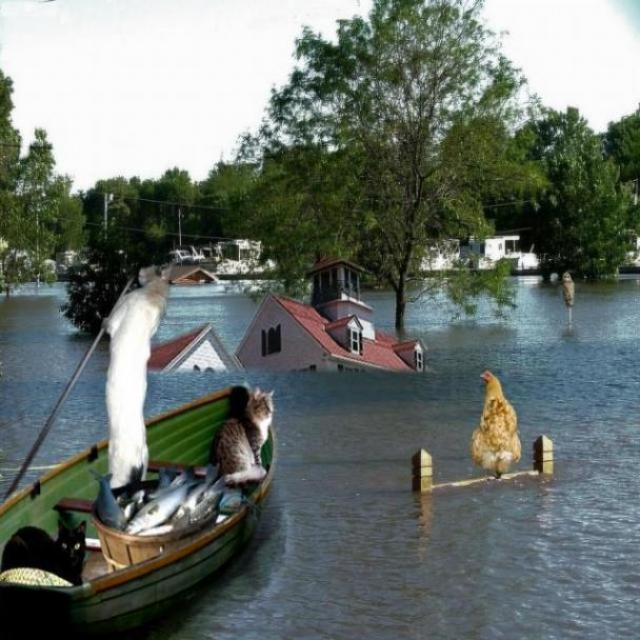Chicken: (469, 358, 523, 483)
